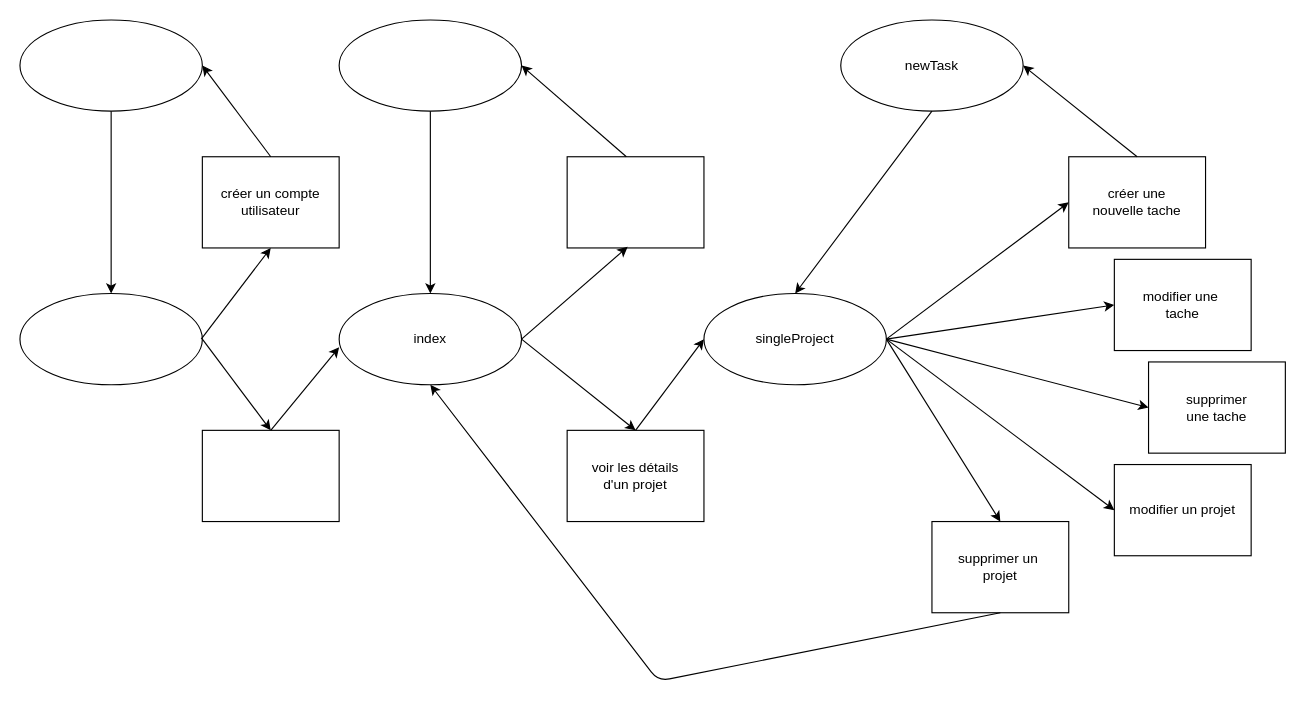
Image size: 1305x710. Some labels were removed from this diagram. Each missing label, with the centre of its shape:
créer un nouveau projet: point (635, 202)
login: point (110, 338)
newProject: point (430, 65)
newUser: point (110, 65)
se connecter: point (270, 475)
